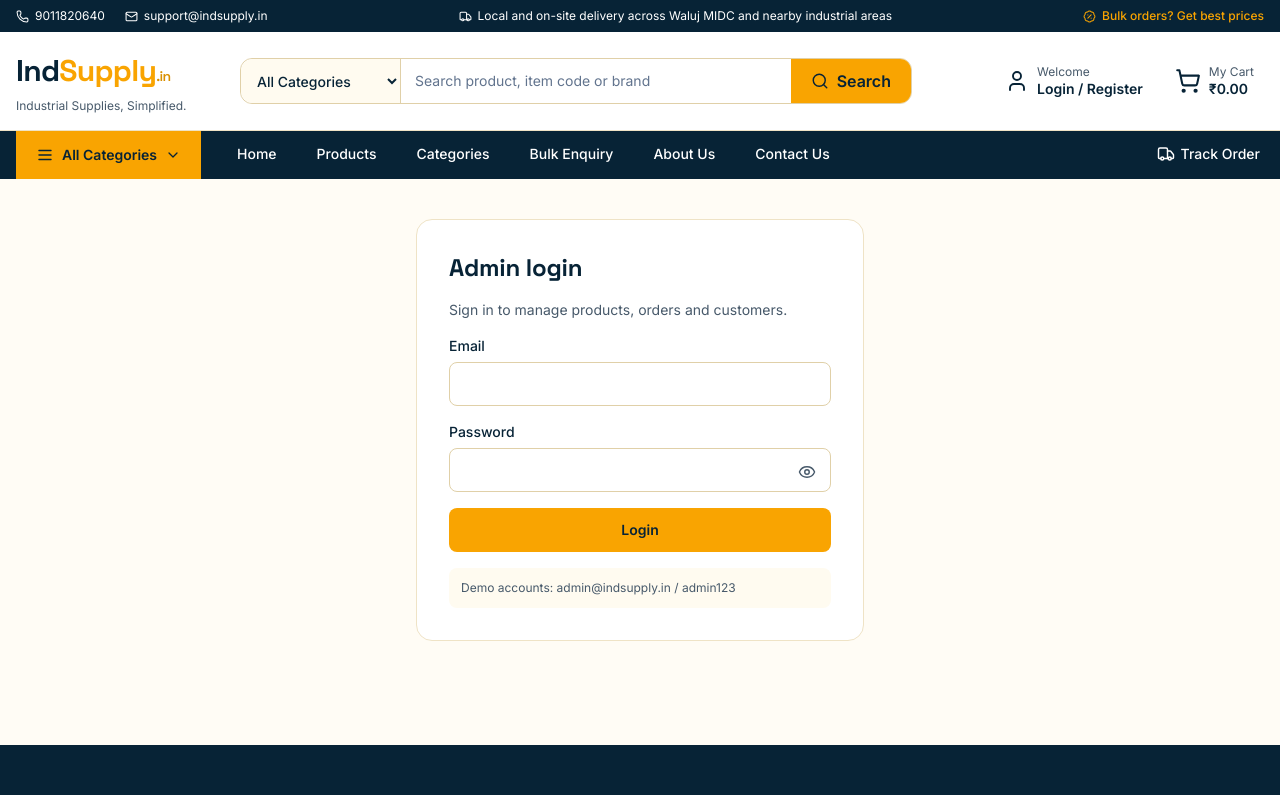
Test: login flow › keeps customers out of the admin login
This screenshot has width=1280, height=795.
Type "demo@indsupply.in" into the field labelled "Email". click: x=640, y=384
box: [449,362,831,406]
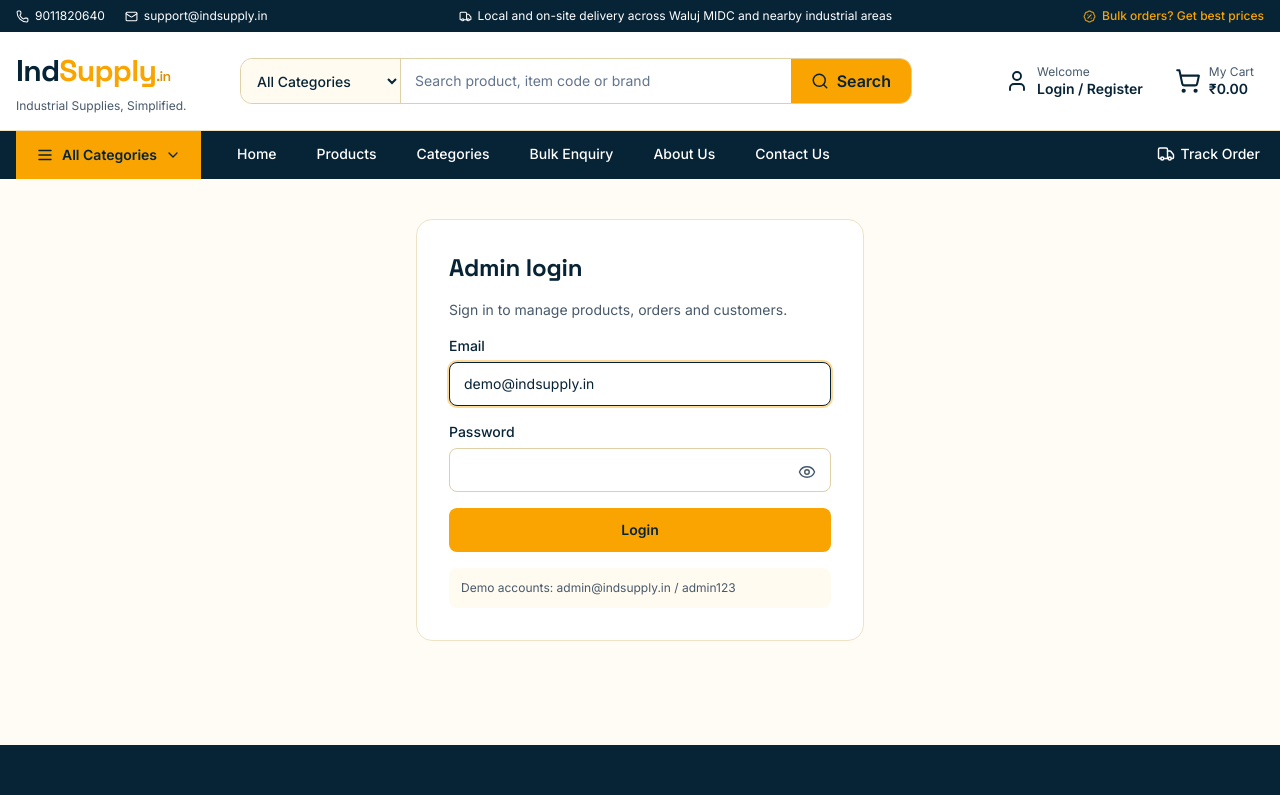
Type "demo123" into the password field labelled "Password". click: x=640, y=470
box: [449,448,831,492]
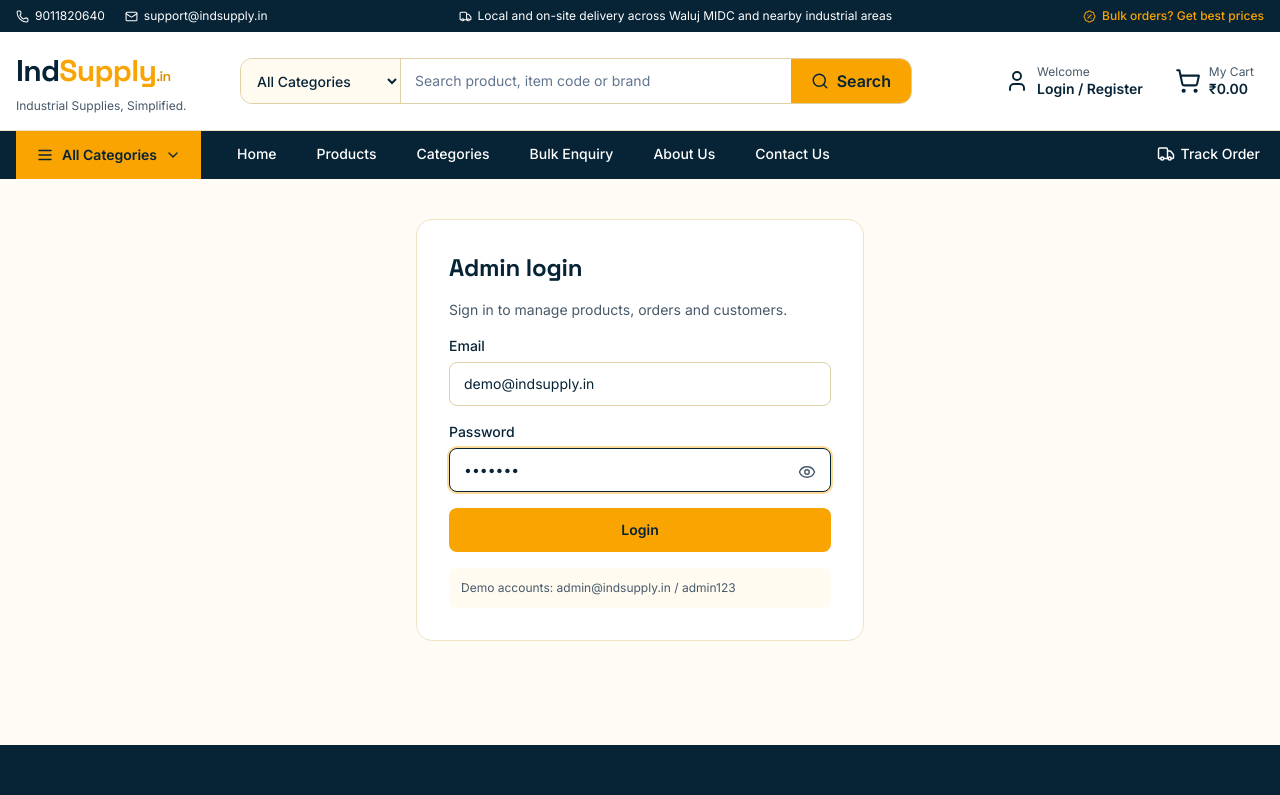
Click the button "Login". click: x=640, y=530
box: [449,508,831,552]
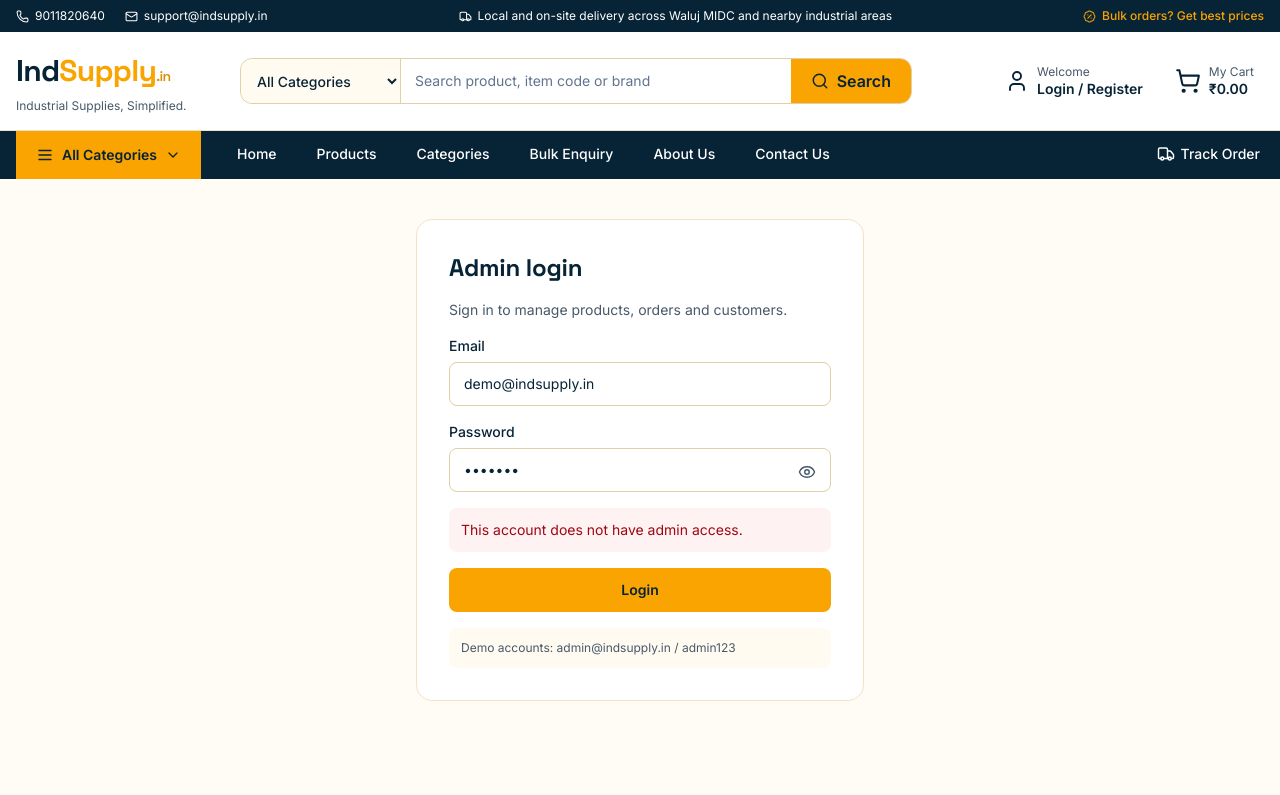
Check: the message shows "admin access", box [461,521,743,538]
